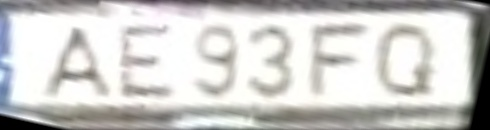3: (244, 23, 298, 103)
9: (189, 19, 242, 100)
A: (34, 22, 115, 100)
E: (116, 23, 179, 101)
F: (305, 22, 373, 101)
Q: (372, 20, 438, 100)
